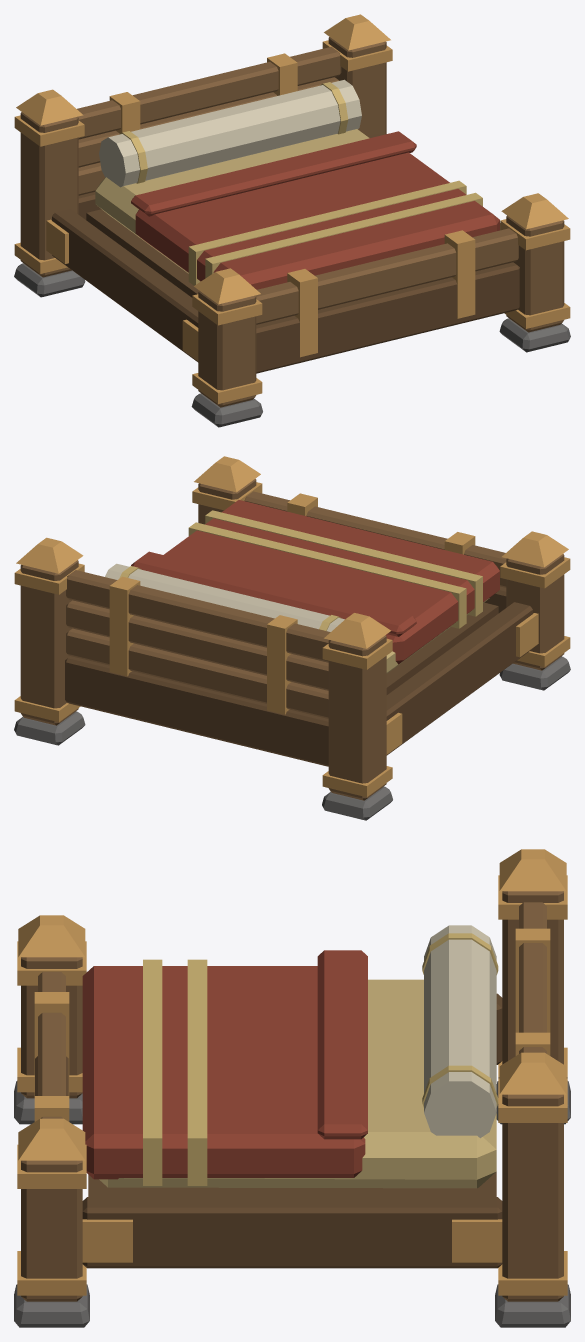
Rendered from bed.glb.
The picture shows the model from 3 angles, top to bottom: view 1: azimuth 30°, elevation 25°; view 2: azimuth 150°, elevation 25°; view 3: azimuth 270°, elevation 25°; orthographic projection. The views are drawn at different scales.
Parts seen in each view (by area): view 1: blanket, bolster, rail_foot, footboard_plank, rail_l, headboard_plank_3, blanket_fold, post_hl, post_fl, mattress, post_fr, post_hr (+25 smaller); view 2: blanket, rail_head, rail_l, post_hl, headboard_plank_3, headboard_plank_1, headboard_plank_2, post_hr, blanket_fold, bolster, post_fl, footboard_plank (+24 smaller); view 3: blanket, rail_r, mattress, bolster, post_hr, blanket_fold, post_fr, blanket_stripe_2, post_hl, blanket_stripe_1, deck, post_fl (+24 smaller).
Boxes of the visible parts, x1=… form: blanket: x1=135, y1=152, x2=499, y2=289; bolster: x1=99, y1=79, x2=361, y2=187; rail_foot: x1=256, y1=262, x2=519, y2=373; footboard_plank: x1=256, y1=228, x2=518, y2=324; rail_l: x1=52, y1=209, x2=198, y2=362; headboard_plank_3: x1=77, y1=46, x2=341, y2=139; blanket_fold: x1=131, y1=131, x2=416, y2=216; post_hl: x1=20, y1=112, x2=78, y2=277; post_fl: x1=198, y1=290, x2=256, y2=407; mattress: x1=95, y1=129, x2=369, y2=273; post_fr: x1=506, y1=215, x2=564, y2=332; post_hr: x1=328, y1=37, x2=386, y2=136; blanket: x1=164, y1=500, x2=499, y2=664; rail_head: x1=65, y1=656, x2=328, y2=766; rail_l: x1=386, y1=602, x2=532, y2=755; post_hl: x1=328, y1=635, x2=386, y2=800; headboard_plank_3: x1=66, y1=570, x2=330, y2=662; headboard_plank_1: x1=66, y1=628, x2=328, y2=718; headboard_plank_2: x1=66, y1=600, x2=328, y2=690; post_hr: x1=20, y1=560, x2=78, y2=725; blanket_fold: x1=131, y1=551, x2=416, y2=636; bolster: x1=105, y1=563, x2=344, y2=631; post_fl: x1=506, y1=554, x2=564, y2=670; footboard_plank: x1=244, y1=491, x2=506, y2=587; blanket: x1=82, y1=966, x2=365, y2=1179; rail_r: x1=82, y1=1197, x2=502, y2=1268; mattress: x1=99, y1=979, x2=496, y2=1188; bolster: x1=424, y1=925, x2=496, y2=1138; post_hr: x1=502, y1=1094, x2=563, y2=1301; blanket_fold: x1=317, y1=950, x2=367, y2=1139; post_fr: x1=21, y1=1160, x2=82, y2=1301; blanket_stripe_2: x1=187, y1=959, x2=207, y2=1185; post_hl: x1=502, y1=891, x2=563, y2=1064; blanket_stripe_1: x1=143, y1=959, x2=162, y2=1185; deck: x1=88, y1=1172, x2=496, y2=1196; post_fl: x1=21, y1=957, x2=82, y2=1098.
Size of what is drawn, in the model's own units: 0.9956 by 0.505 by 0.9956.
